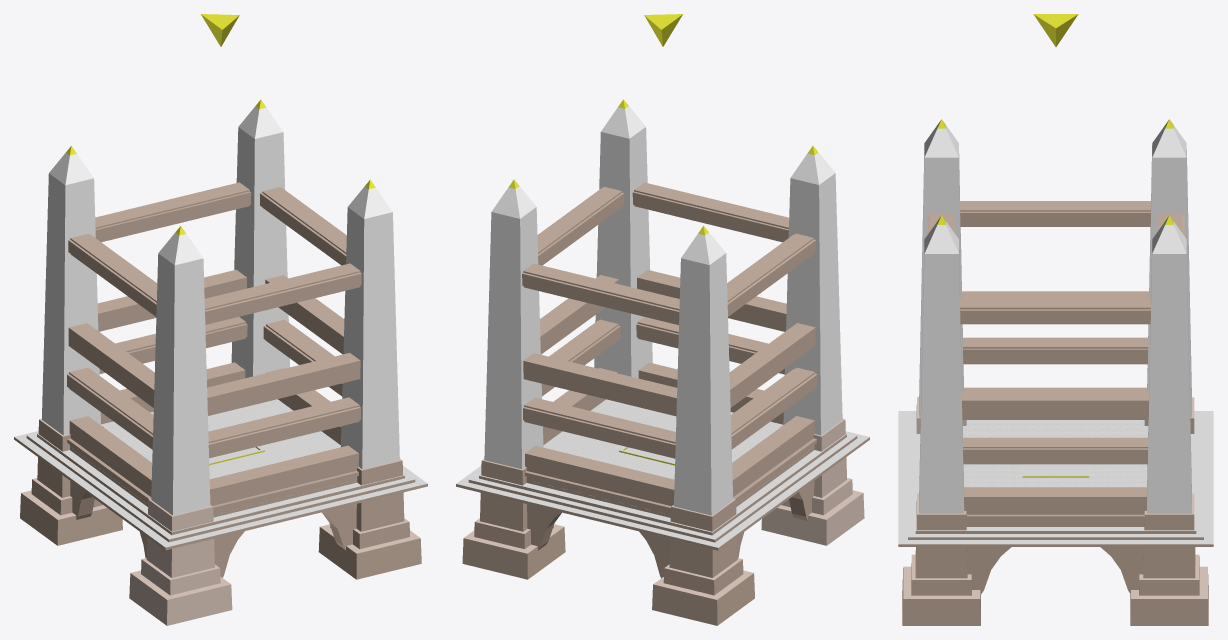
File: tower.fbx
The picture shows the model from 3 angles, left to right: view 1: azimuth 30°, elevation 25°; view 2: azimuth 150°, elevation 25°; view 3: azimuth 270°, elevation 25°; orthographic projection. The views are drawn at different scales.
Parts seen in each view (by area): view 1: obelisk1, TOWER_FLOOR3, TOWER_FLOOR2, TOWER_FLOOR0, archs, EndTriedra; view 2: obelisk1, TOWER_FLOOR3, TOWER_FLOOR2, TOWER_FLOOR0, archs, EndTriedra; view 3: obelisk1, TOWER_FLOOR0, TOWER_FLOOR3, TOWER_FLOOR2, archs, EndTriedra.
Boxes of the visible parts, x1,y1,x2,y2 form: obelisk1: (20,99,421,625); TOWER_FLOOR3: (68,182,361,415); TOWER_FLOOR2: (67,317,360,505); TOWER_FLOOR0: (14,399,427,550); archs: (67,411,358,577); EndTriedra: (201,14,239,46); obelisk1: (462,99,864,625); TOWER_FLOOR3: (522,182,815,416); TOWER_FLOOR2: (523,317,817,506); TOWER_FLOOR0: (456,399,869,550); archs: (525,411,816,578); EndTriedra: (644,14,682,46); obelisk1: (902,119,1208,625); TOWER_FLOOR0: (898,411,1213,546); TOWER_FLOOR3: (927,201,1184,419); TOWER_FLOOR2: (963,337,1148,514); archs: (966,514,1144,595); EndTriedra: (1033,14,1078,46).
Bounding box in the file's own units: 417 × 791 × 417.
